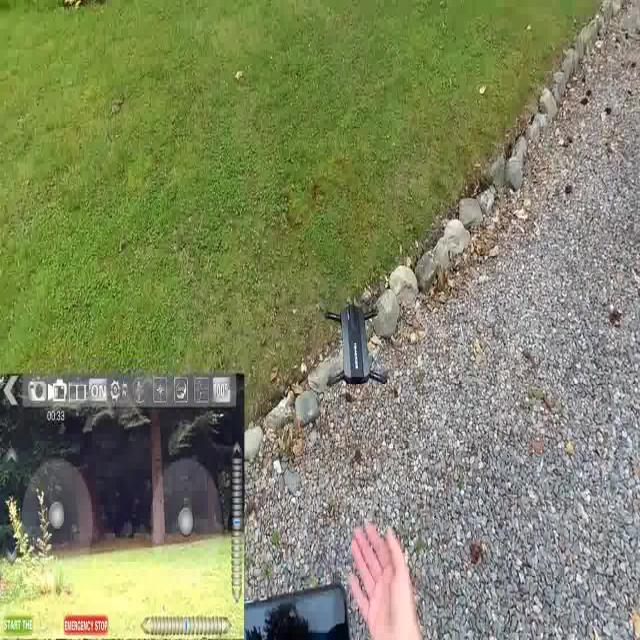drone: (318, 296, 394, 394)
